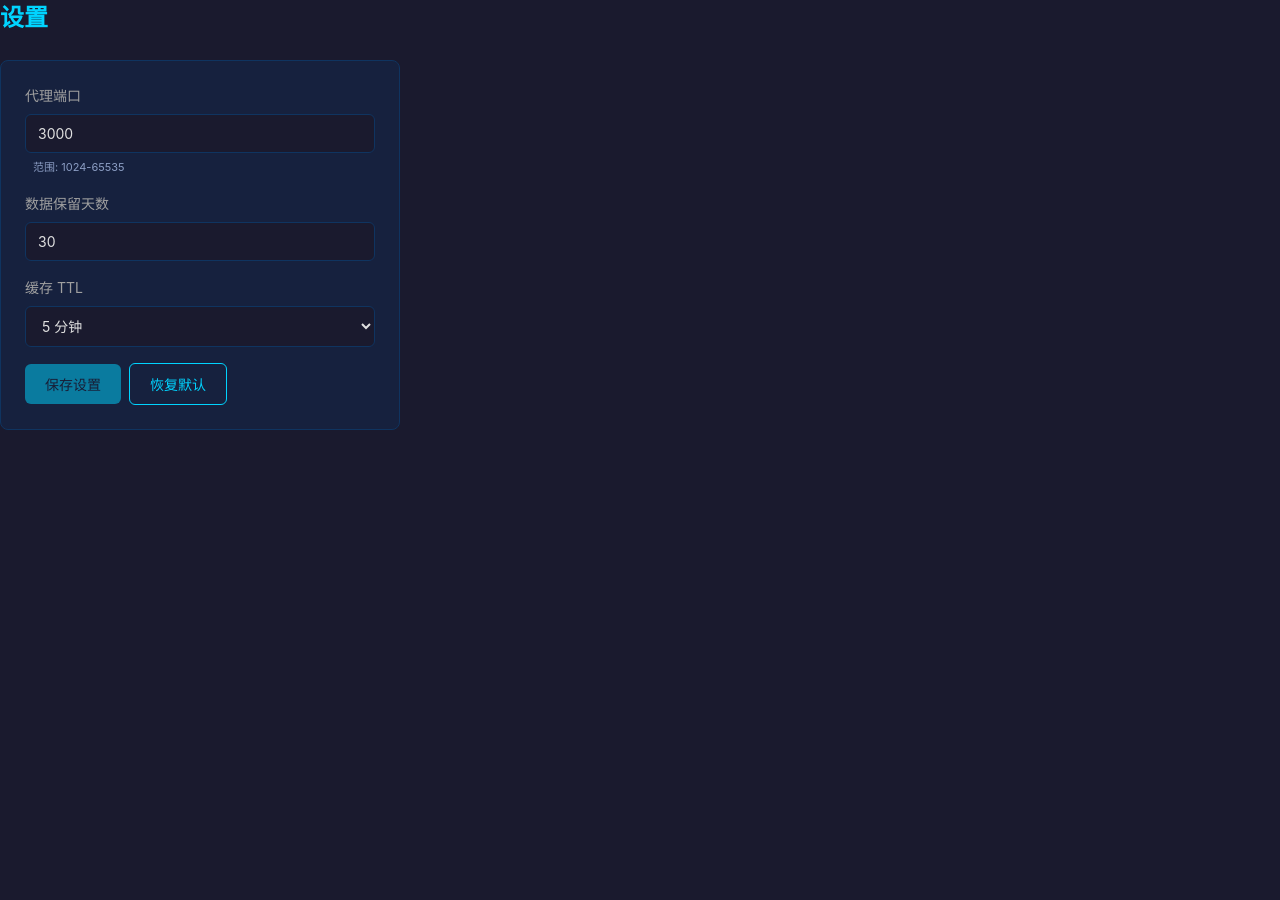
Settings › 点击恢复默认弹出确认框
The image size is (1280, 900).
Click the button "恢复默认": (178, 384) [129, 363, 227, 405]
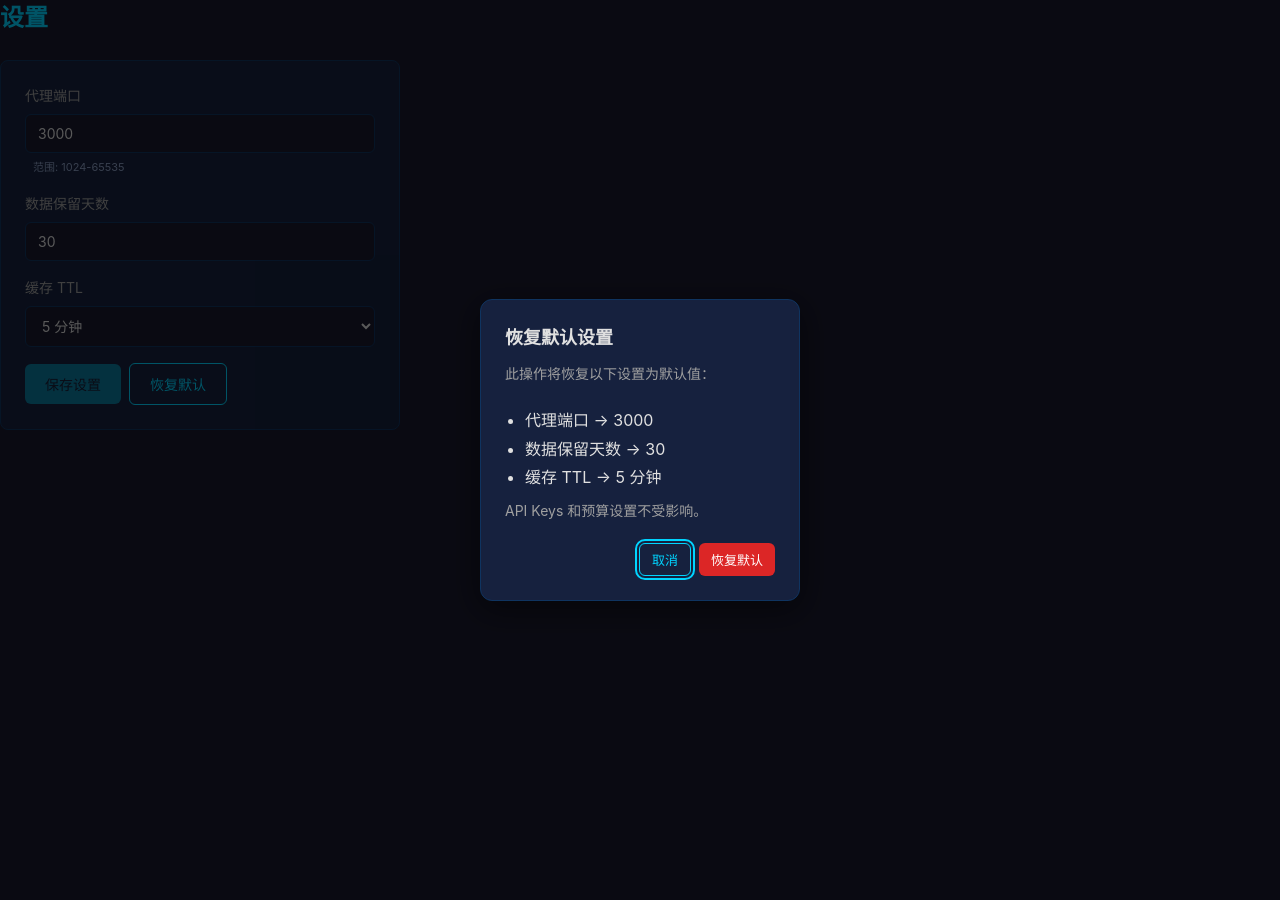
Expected: the heading "恢复默认设置" is shown, [505, 327, 613, 348]
